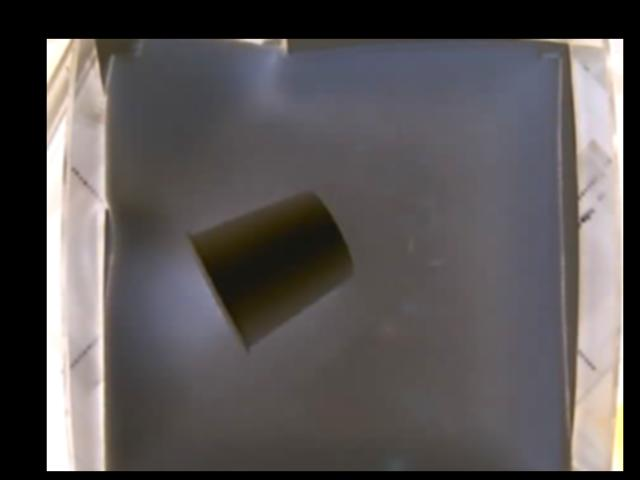Cup: (181, 191, 355, 356)
